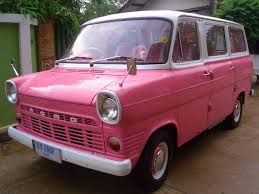van: (5, 10, 254, 191)
